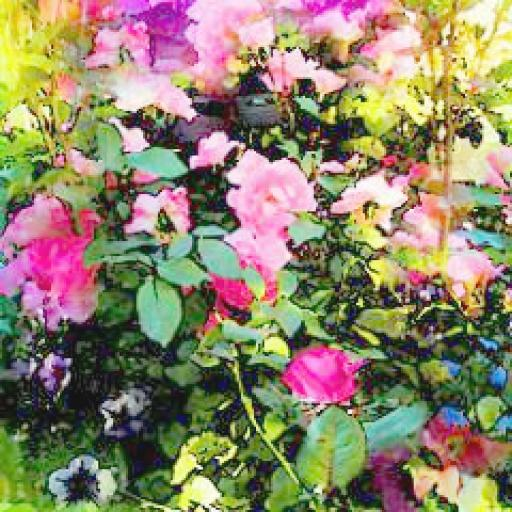rose: (19, 228, 98, 297), (280, 342, 360, 406)
